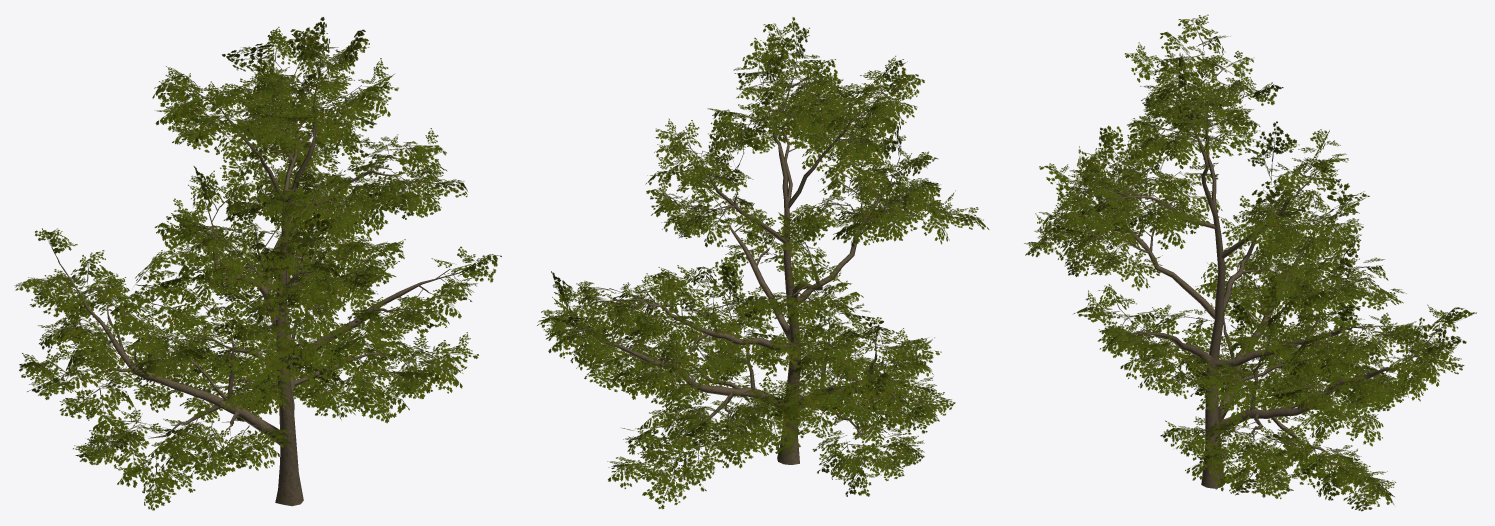
Rendered from maple.glb.
3 renders of one model, left to right at view 1: azimuth 30°, elevation 25°; view 2: azimuth 150°, elevation 25°; view 3: azimuth 270°, elevation 25°, orthographic. The views are drawn at different scales.
Visible parts, largest first — view 1: Acer_large_1_LOD0_Cluster_Mat_0, Acer_large_1_LOD0_Bark_Mat_0; view 2: Acer_large_1_LOD0_Cluster_Mat_0, Acer_large_1_LOD0_Bark_Mat_0; view 3: Acer_large_1_LOD0_Cluster_Mat_0, Acer_large_1_LOD0_Bark_Mat_0.
Part boxes in pixels (x1,y1,x2,y2): Acer_large_1_LOD0_Cluster_Mat_0: (14,17,501,510); Acer_large_1_LOD0_Bark_Mat_0: (52,57,458,506); Acer_large_1_LOD0_Cluster_Mat_0: (537,17,989,509); Acer_large_1_LOD0_Bark_Mat_0: (575,54,950,471); Acer_large_1_LOD0_Cluster_Mat_0: (1024,14,1476,511); Acer_large_1_LOD0_Bark_Mat_0: (1059,42,1440,488).
Bounding box in the file's own units: 18.69 × 20.78 × 19.72.
Materials: 2 (2 with a texture image).
